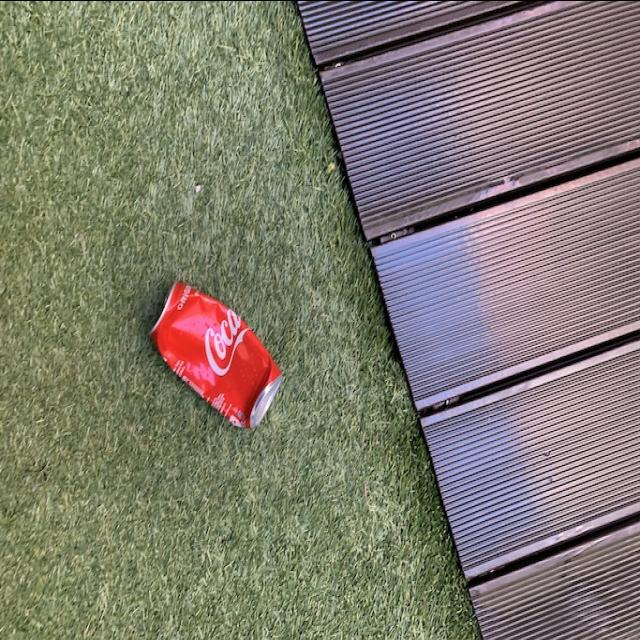Aluminum Can: (154, 278, 282, 428)
